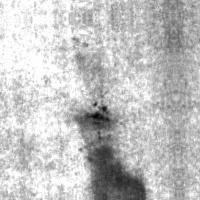inclusion: (86, 99, 113, 133)
patches: (85, 141, 147, 198)
